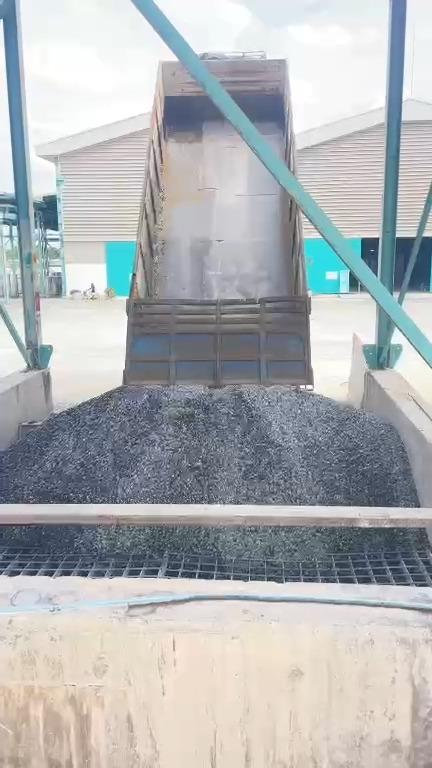gravel: (0, 387, 417, 505), (1, 529, 424, 559)
